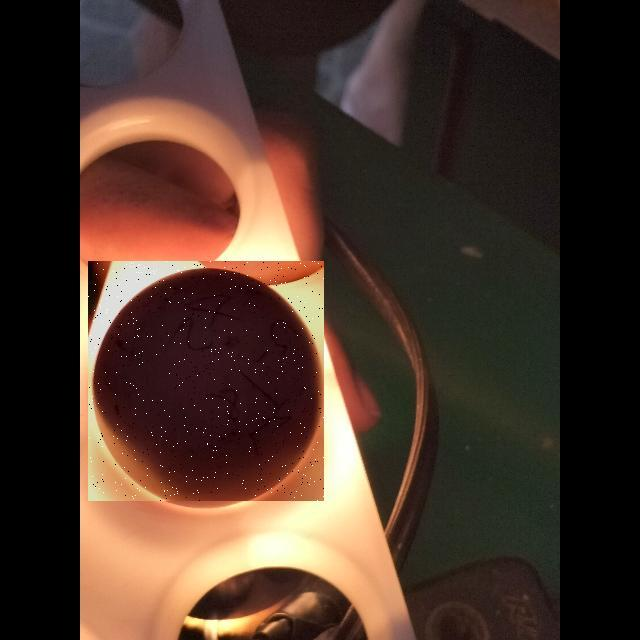Fertile: (88, 261, 324, 501)
